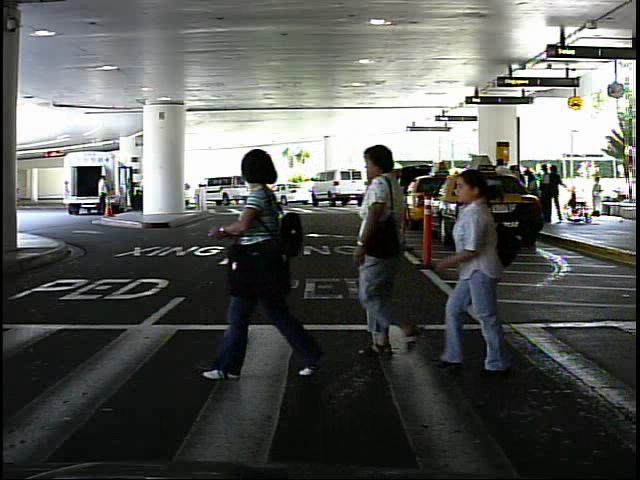person: (219, 142, 334, 390), (417, 164, 535, 382), (347, 137, 429, 359), (93, 171, 111, 221), (588, 173, 607, 218)
